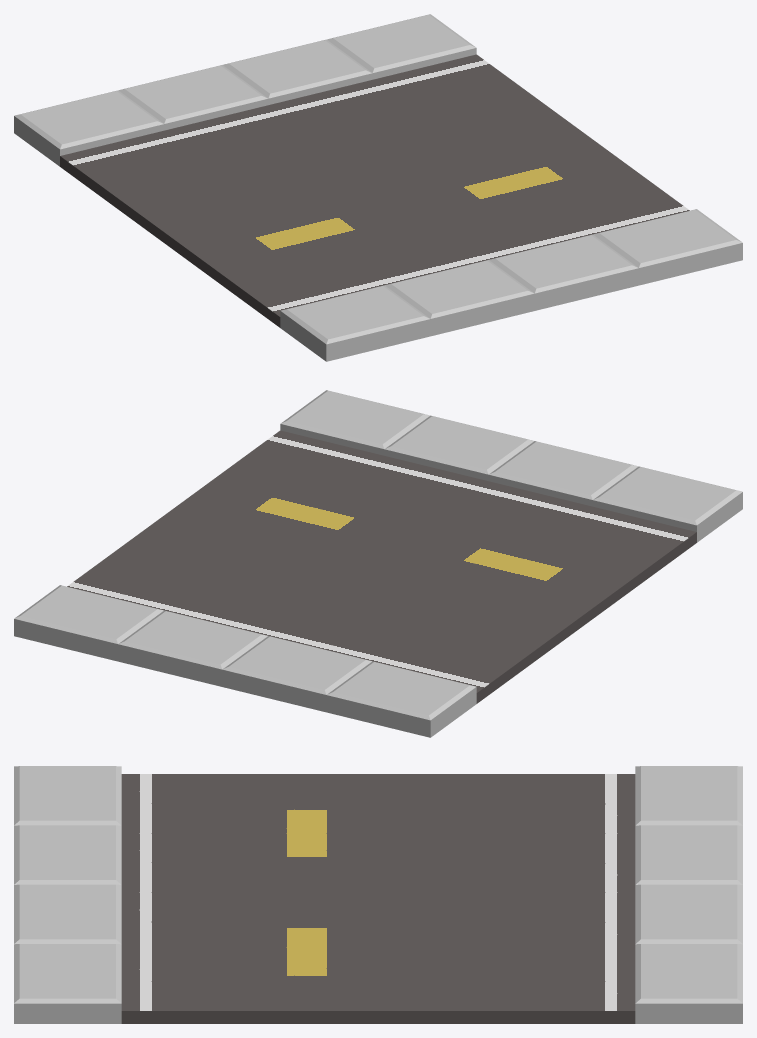
The model's file is road_straight_edit.obj.
3 views of the same model, one above another, from view 1: azimuth 30°, elevation 25°; view 2: azimuth 150°, elevation 25°; view 3: azimuth 270°, elevation 25° (orthographic). The views are drawn at different scales.
Visible parts, largest first — view 1: straight1-col.001; view 2: straight1-col.001; view 3: straight1-col.001.
Part boxes in pixels (bbox=[...]): straight1-col.001: bbox=[14, 14, 742, 361]; straight1-col.001: bbox=[14, 390, 742, 737]; straight1-col.001: bbox=[14, 766, 742, 1023].
Size of the model in its own units: 10 by 0.45 by 12.99.
Materials: 4 (3 with a texture image).
